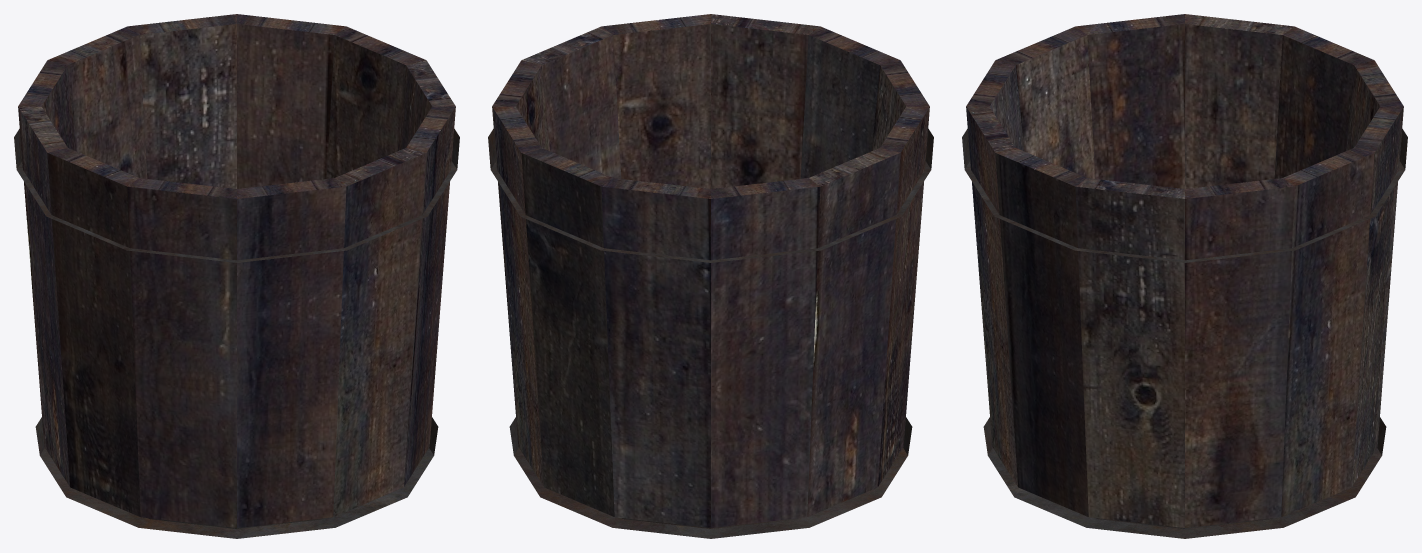
The model's file is bucket.fbx.
3 views of the same model, side by side, from view 1: azimuth 30°, elevation 25°; view 2: azimuth 150°, elevation 25°; view 3: azimuth 270°, elevation 25° (orthographic).
Parts seen in each view (by area): view 1: Bucket1_1; view 2: Bucket1_1; view 3: Bucket1_1.
Boxes of the visible parts, x1=… form: Bucket1_1: x1=14, y1=14, x2=459, y2=538; Bucket1_1: x1=488, y1=14, x2=933, y2=538; Bucket1_1: x1=962, y1=14, x2=1407, y2=538.
Size of the model in its own units: 0.3506 by 0.3028 by 0.3506.
